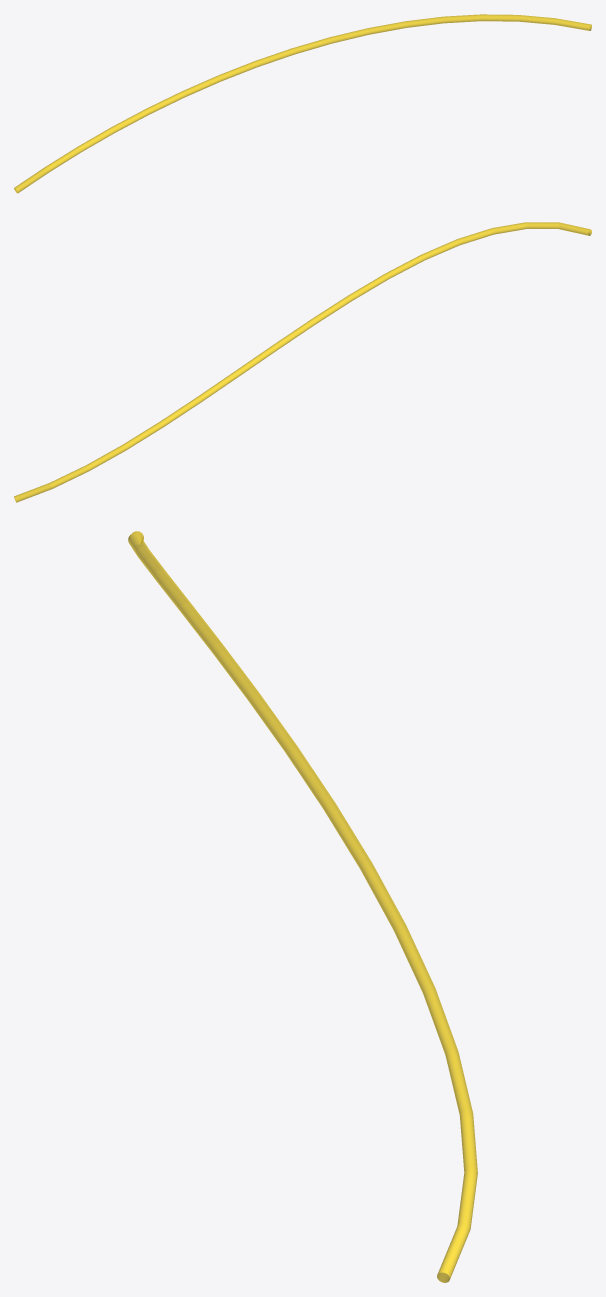
File: Event_419990632_track_73.fbx
3 renders of one model, top to bottom at view 1: azimuth 30°, elevation 25°; view 2: azimuth 210°, elevation 25°; view 3: azimuth 270°, elevation 25°, orthographic. The views are drawn at different scales.
Visible parts, largest first — view 1: Model; view 2: Model; view 3: Model.
Part boxes in pixels (x1,y1,x2,y2): Model: (14, 14, 591, 193); Model: (14, 222, 591, 502); Model: (128, 531, 477, 1282).
Size of the model in its own units: 4.43 by 0.6069 by 1.03.
